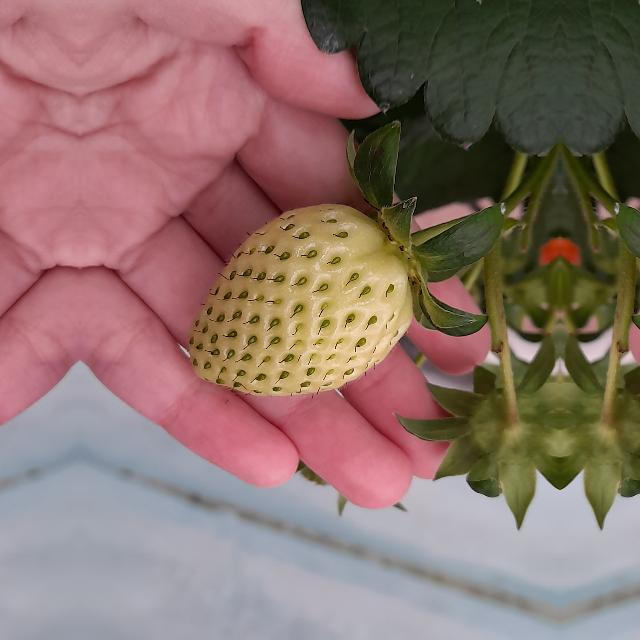Health_25: (188, 202, 412, 396)
